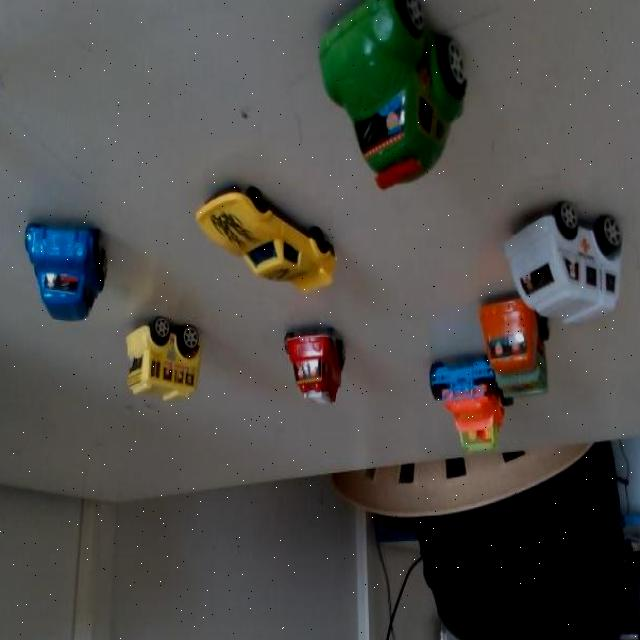car: (304, 0, 479, 192), (490, 180, 625, 346), (201, 181, 334, 303), (422, 357, 503, 461), (126, 306, 210, 404), (26, 220, 103, 322), (482, 292, 548, 408), (283, 312, 356, 416)
